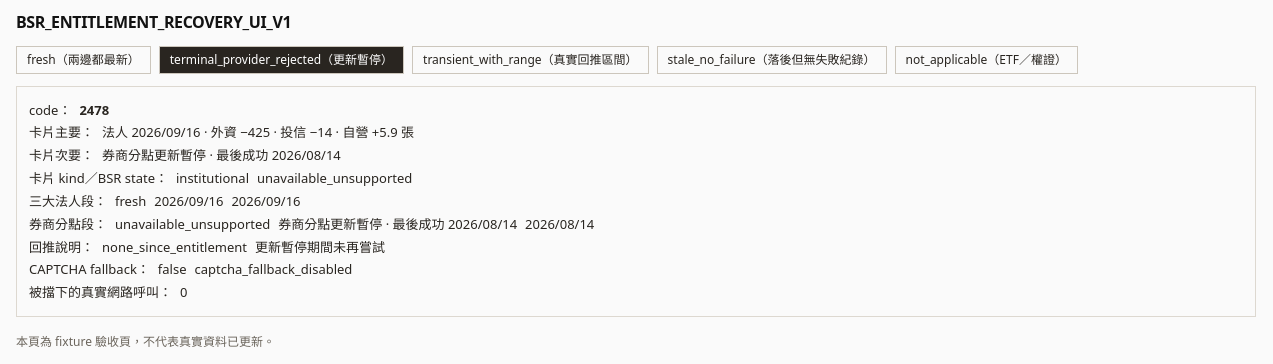
Test: BSR provider state harness › transient：有完整 from/to 時顯示真實回推區間與天數
Click the button "transient_with_range（真實回推區間）".
click(530, 60)  # box [412,46,649,74]
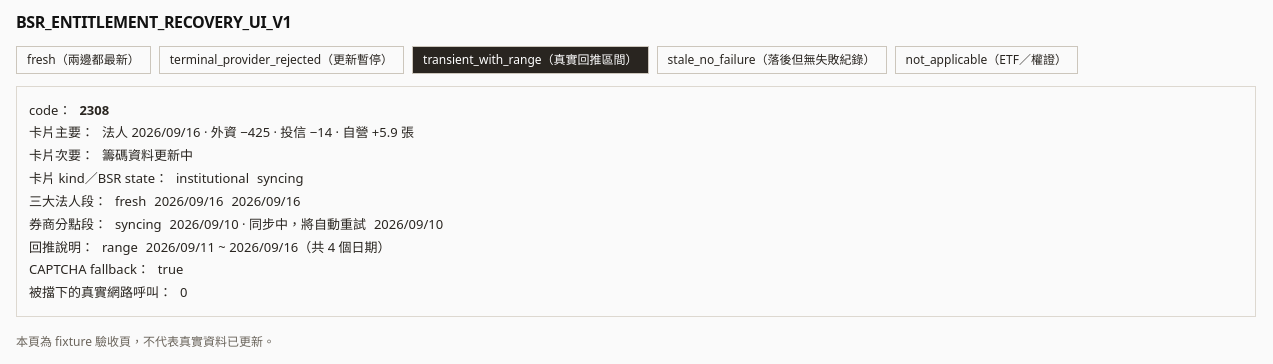
Expected: the text with test id "retry-note-kind" reads "range", [102,238,138,256]
Expected: the text with test id "retry-note-text" reads "2026/09/11 ~ 2026/09/16（共 4 個日期）", [146,238,390,256]
